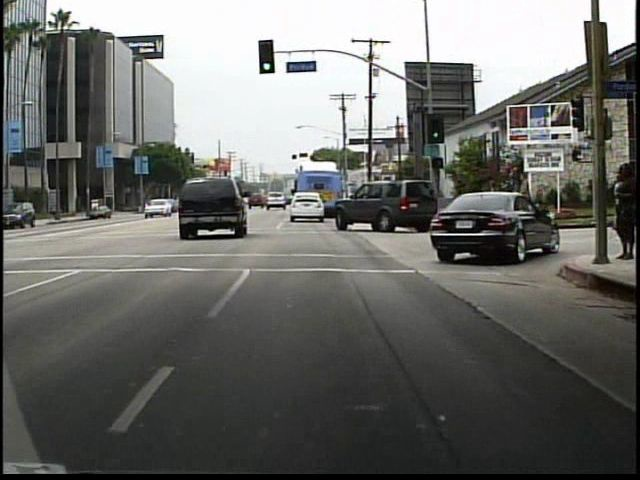person: (608, 162, 630, 262), (475, 176, 507, 236), (608, 172, 628, 235), (513, 172, 534, 224)
